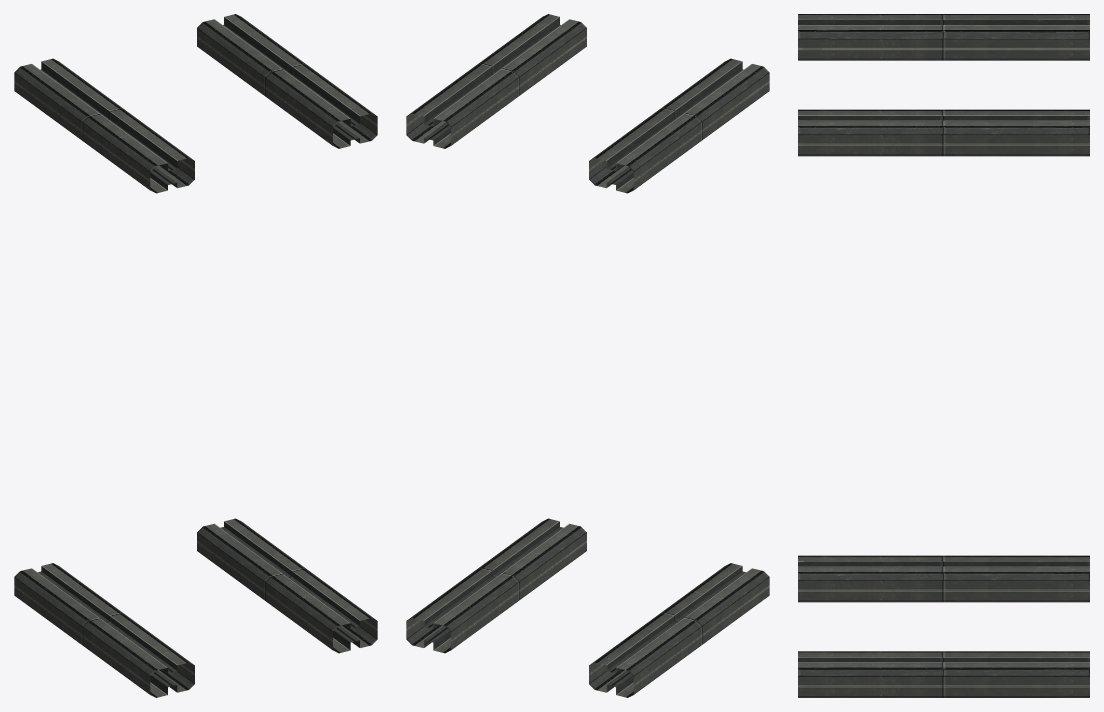
File: Neon_WindowHospMid01.FBX
3 views of the same model, side by side, from view 1: azimuth 30°, elevation 25°; view 2: azimuth 150°, elevation 25°; view 3: azimuth 270°, elevation 25° (orthographic). The views are drawn at different scales.
Visible parts, largest first — view 1: Neon_WindowHospMid01; view 2: Neon_WindowHospMid01; view 3: Neon_WindowHospMid01.
Boxes of the visible parts, x1,y1,x2,y2 form: Neon_WindowHospMid01: [14, 14, 377, 697]; Neon_WindowHospMid01: [406, 14, 769, 697]; Neon_WindowHospMid01: [798, 14, 1089, 697].
Bounding box in the file's own units: 1.93 × 4.32 × 2.
